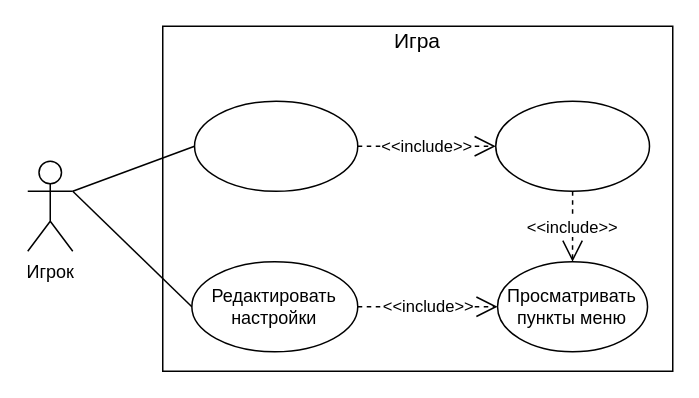
Some shapes in this 699 by 398 pixel diagram are drawn without their labels. Here are the shapes that lost their labels. From the top down, the box of each, then its label:
(193, 100, 358, 191): Запускать игровой процесс
(494, 100, 650, 191): Выбирать уровень
